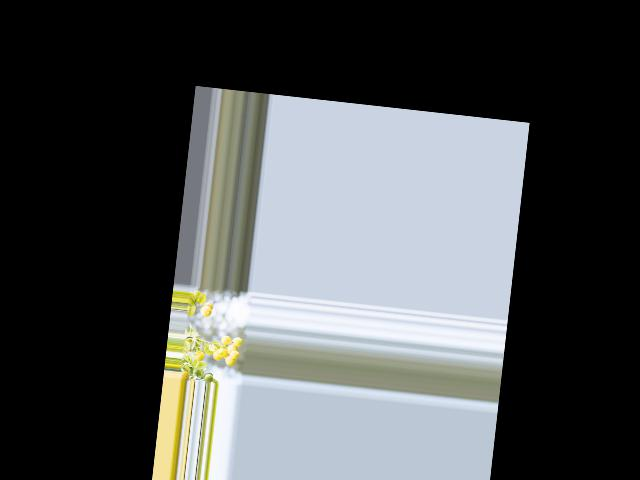lemon: (224, 354, 239, 366)
